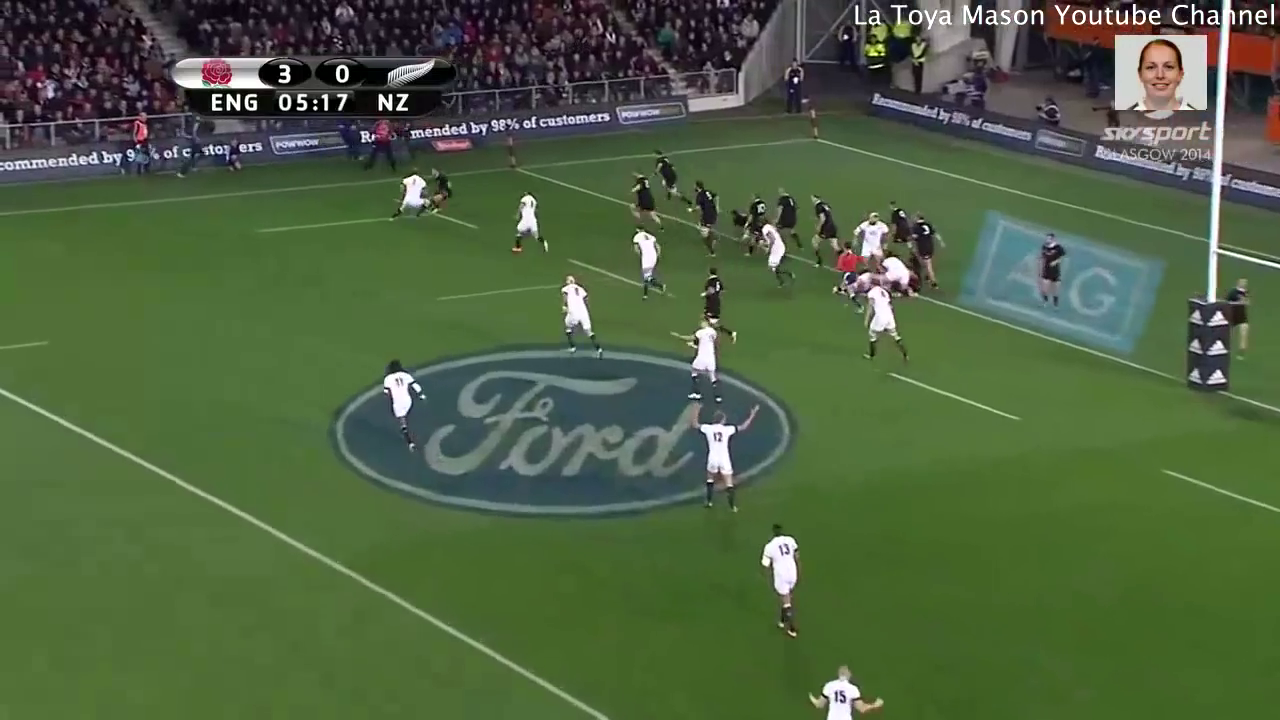corner_flag: (502, 121, 519, 171), (803, 102, 821, 144)
player: (687, 398, 749, 523), (750, 523, 807, 635), (380, 356, 434, 460), (801, 661, 895, 720), (549, 273, 608, 362), (667, 317, 731, 397), (624, 221, 672, 304), (861, 283, 905, 369), (1035, 230, 1072, 317), (1219, 272, 1255, 354), (646, 146, 690, 212), (690, 179, 727, 257), (905, 211, 941, 291), (764, 180, 804, 250), (805, 188, 836, 270), (513, 188, 548, 260), (753, 223, 790, 286), (622, 170, 661, 228), (420, 162, 459, 219), (851, 209, 892, 261), (693, 263, 728, 323), (394, 165, 427, 224), (836, 244, 864, 311), (750, 189, 773, 248), (881, 198, 909, 244), (724, 204, 748, 242)
post: (1184, 235, 1280, 406)
ruck: (839, 259, 942, 304)
